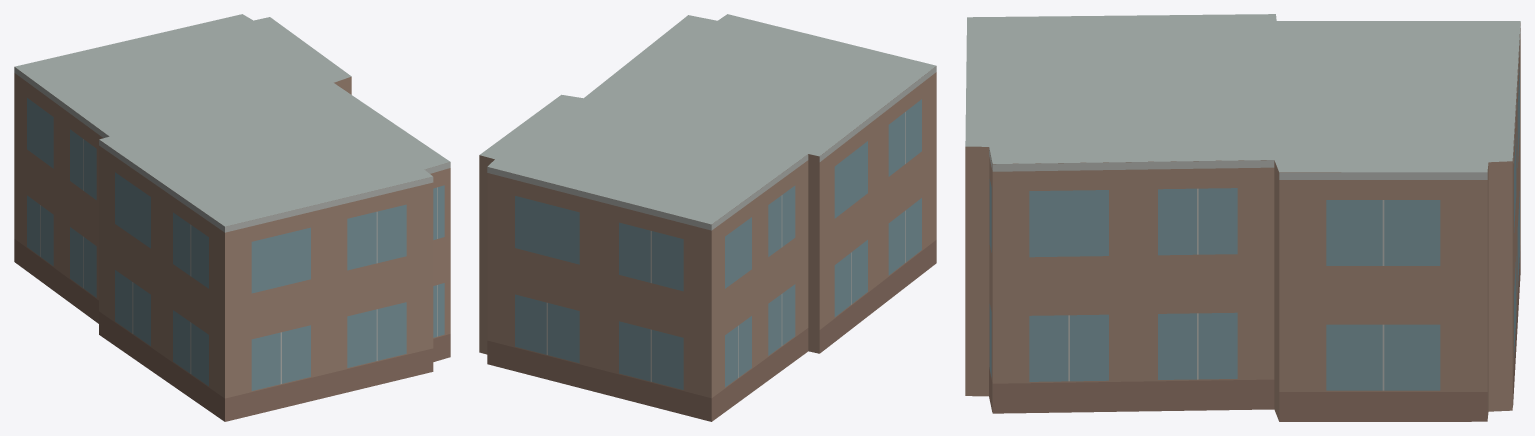
Rendered from survey-upis-32931885.glb.
3 renders of one model, left to right at view 1: azimuth 30°, elevation 25°; view 2: azimuth 150°, elevation 25°; view 3: azimuth 270°, elevation 25°, orthographic. The views are drawn at different scales.
Visible parts, largest first — view 1: survey-upis-32931885.tmp; view 2: survey-upis-32931885.tmp; view 3: survey-upis-32931885.tmp.
Part boxes in pixels (x1,y1,x2,y2): survey-upis-32931885.tmp: [14, 14, 450, 421]; survey-upis-32931885.tmp: [479, 14, 936, 421]; survey-upis-32931885.tmp: [965, 14, 1520, 421].
Bounding box in the file's own units: 10.77 × 7.9 × 15.95.
